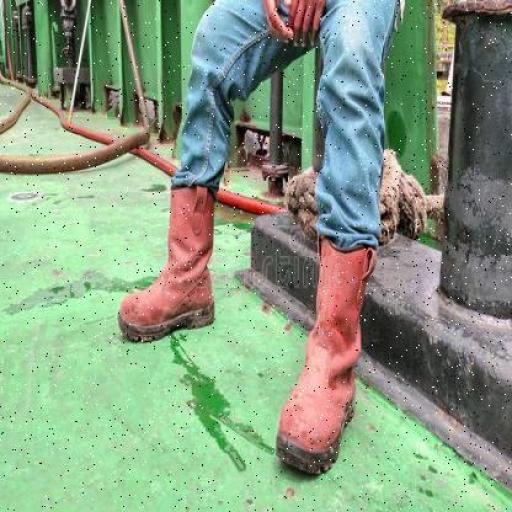safety_shoe: (274, 246, 367, 470), (129, 183, 219, 336)
